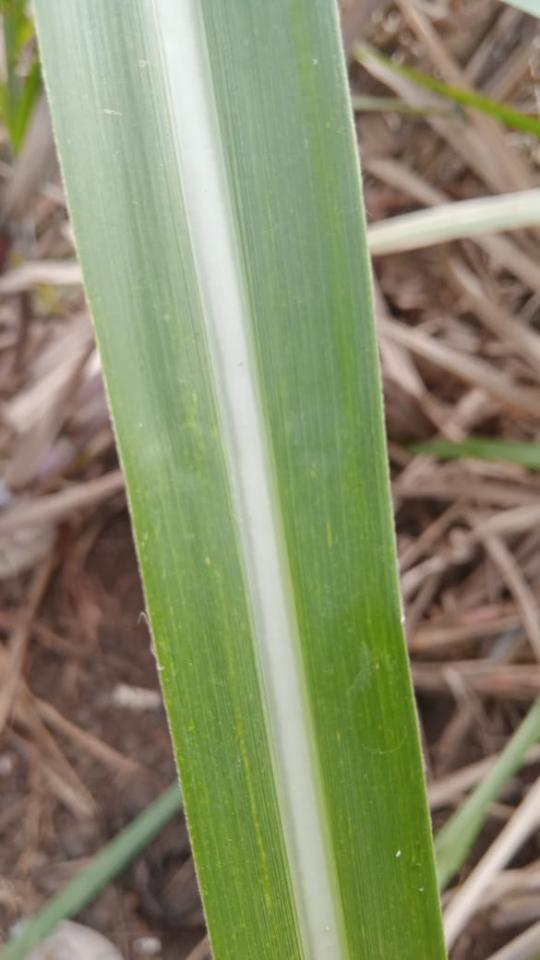Healthy: (30, 0, 444, 959)
